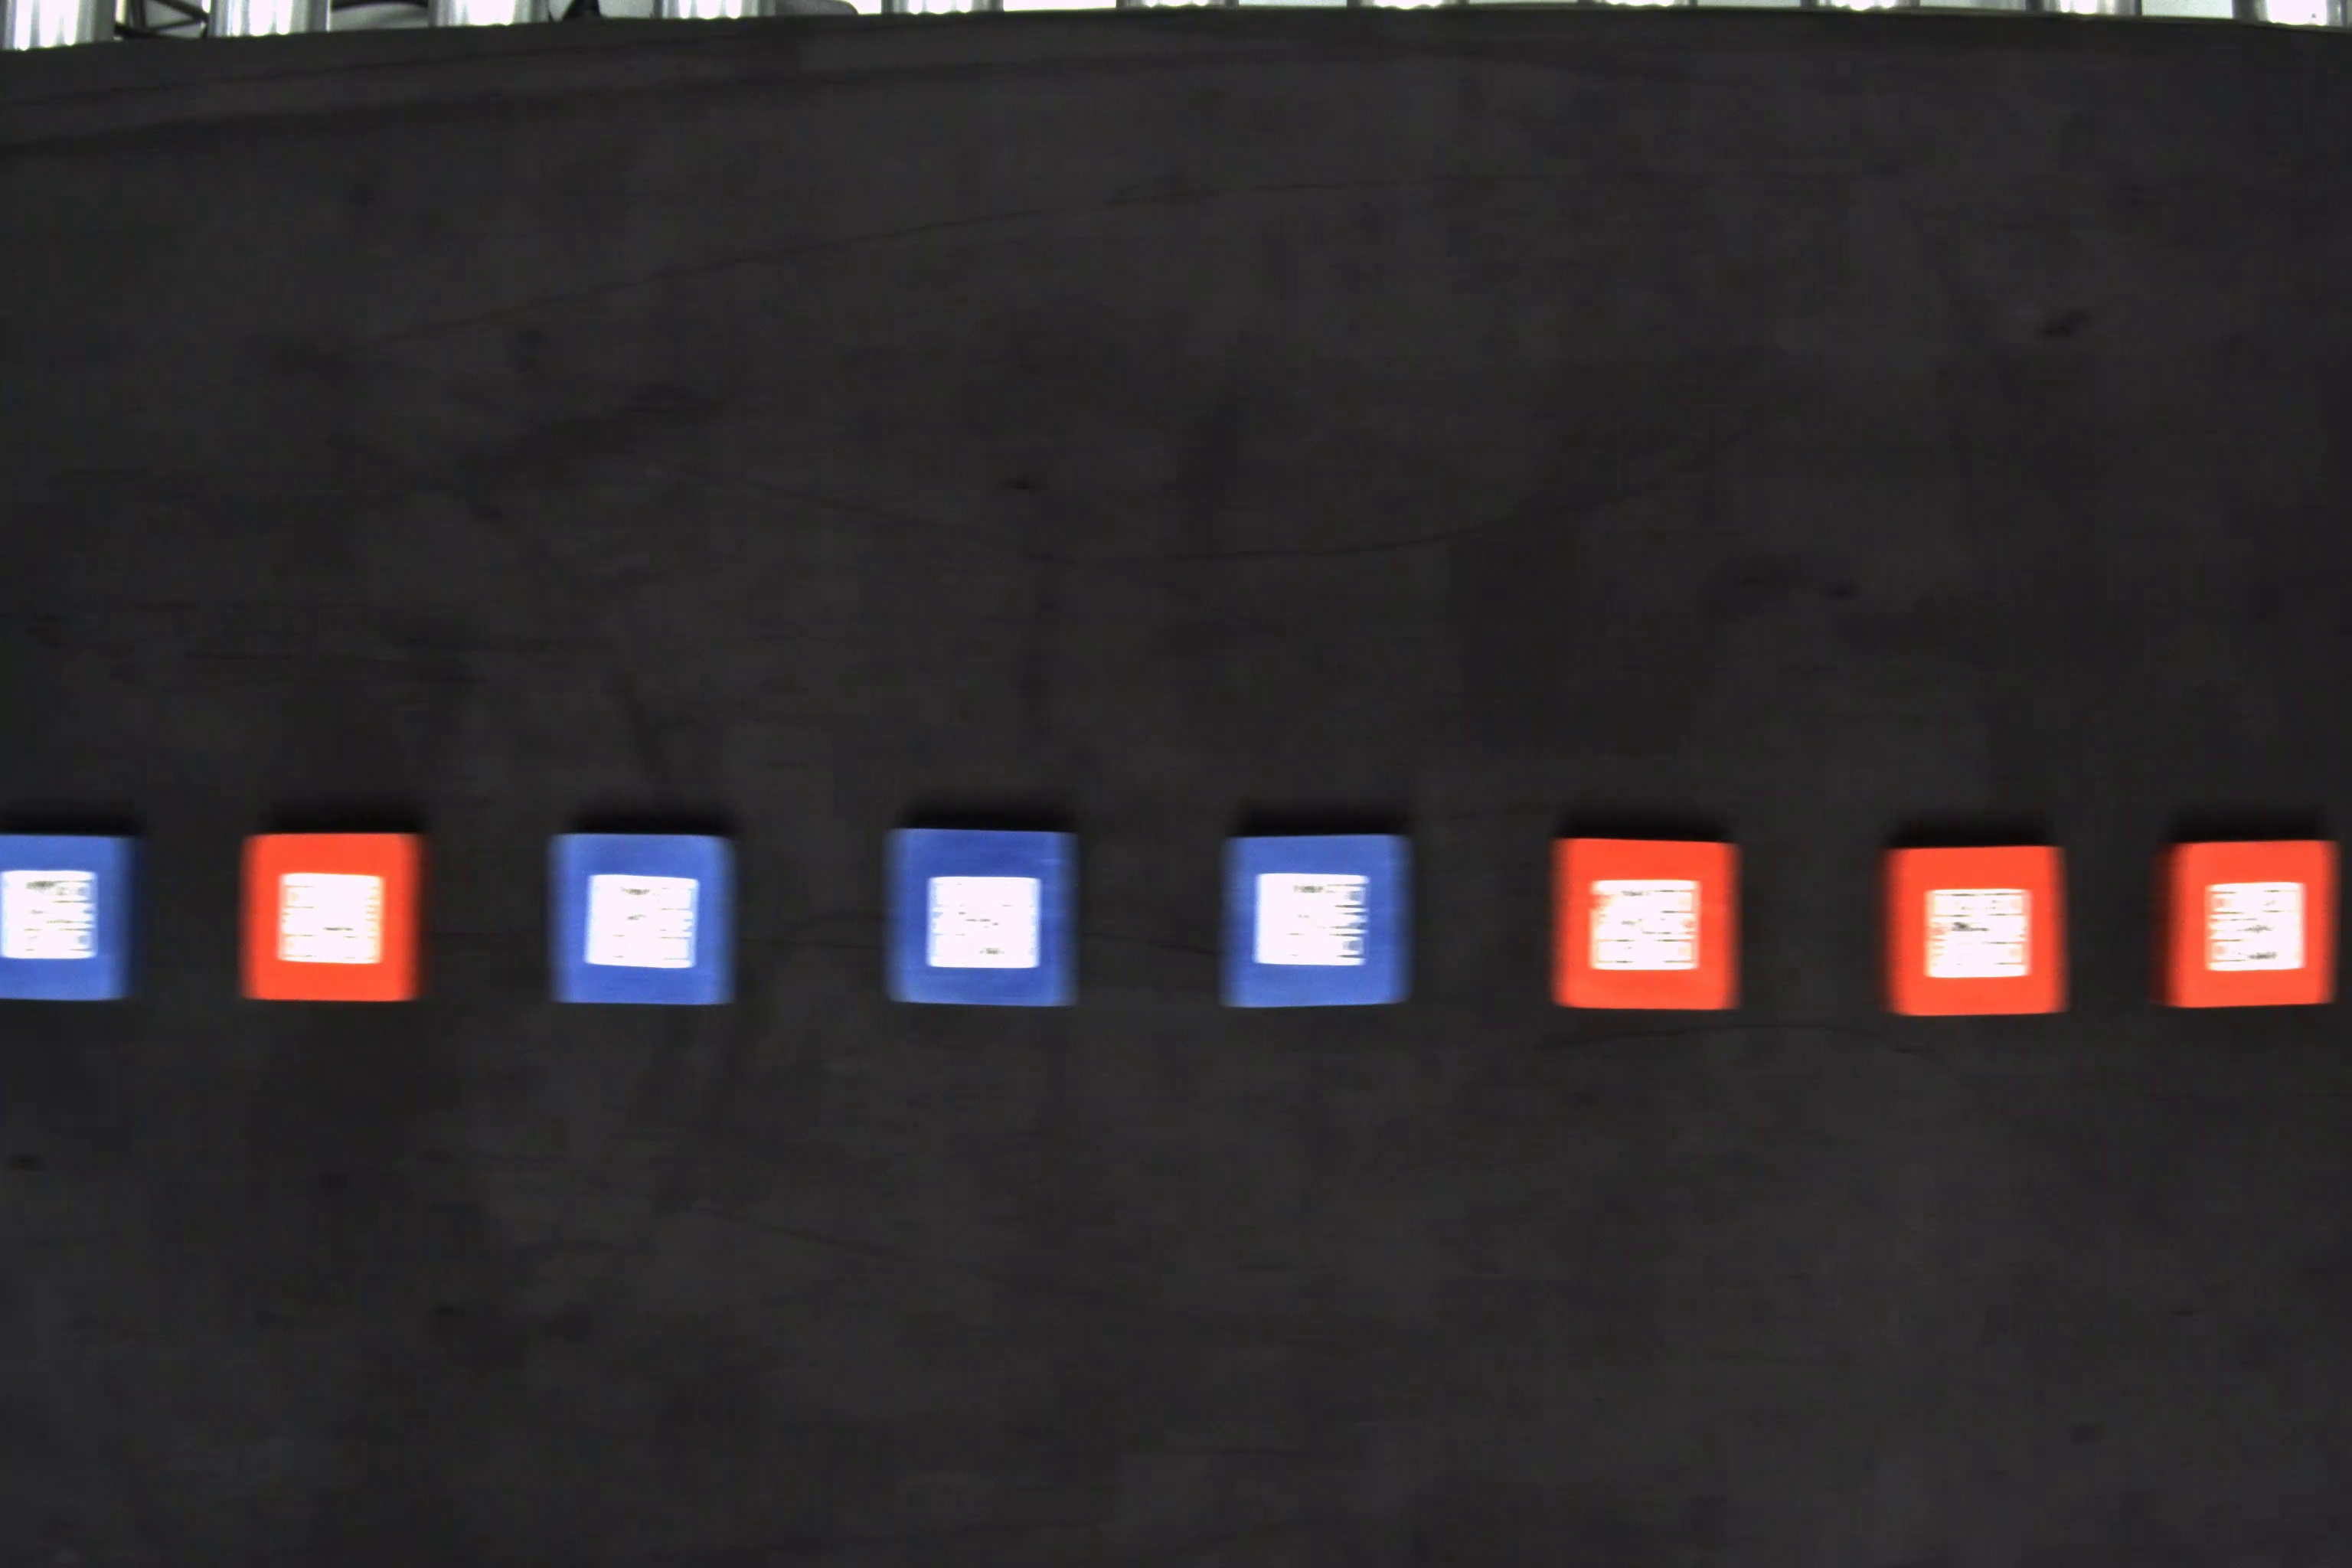wood: (1547, 831, 1746, 1015), (1214, 826, 1410, 1011), (549, 828, 747, 1008), (887, 828, 1080, 1006), (2154, 836, 2340, 1013), (1874, 847, 2065, 1015), (241, 831, 434, 997), (2, 833, 138, 1006)
